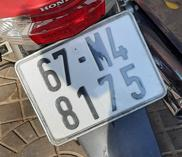1: (72, 83, 104, 124)
4: (102, 20, 133, 67)
5: (118, 60, 151, 102)
6: (32, 53, 66, 96)
7: (49, 43, 84, 90), (93, 71, 122, 116)
8: (50, 92, 84, 133)
M: (81, 28, 116, 76)
